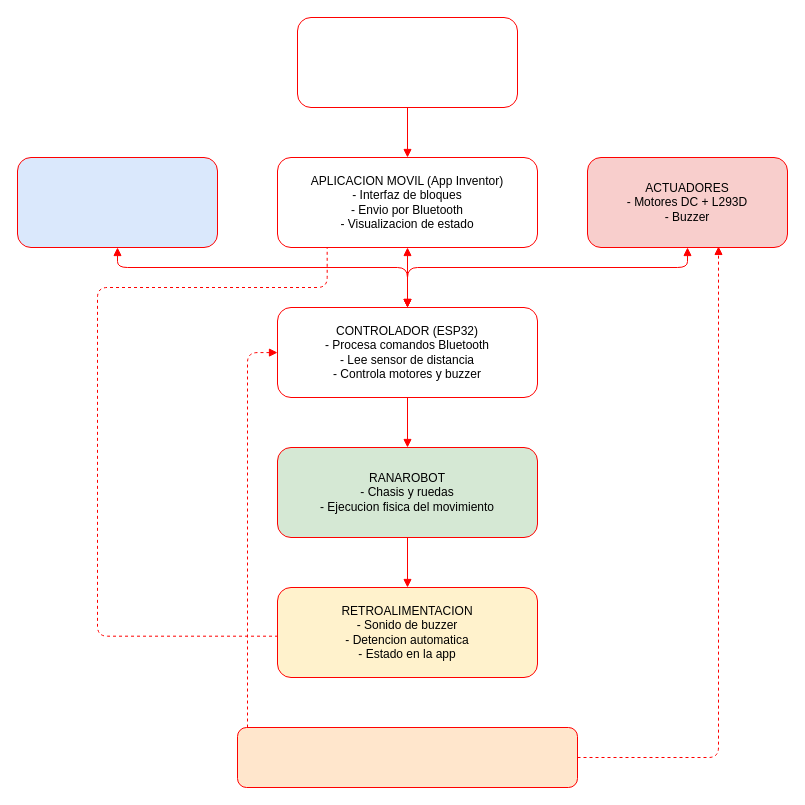
The diagram is 805 pixels wide and 805 high, and some of its shapes have lost their labels. Each missing label, with the box of its shape:
ENERGIA Bateria recargable + modulo de carga MH-CD42: (236, 726, 578, 788)
SENSORES - HC-SR04 (distancia) - Divisor de voltaje: (16, 156, 218, 248)
USUARIO - Programa por bloques - Ejecuta comandos - Observa resultado: (296, 16, 518, 108)
